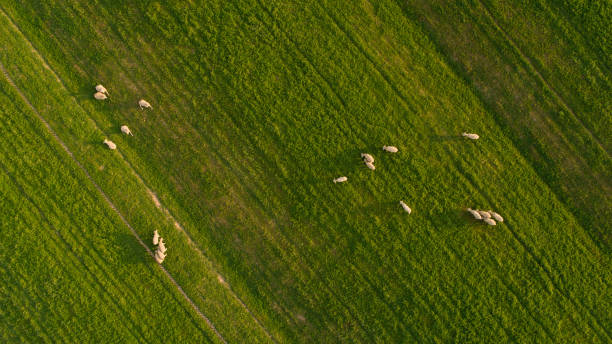sheep: (92, 82, 111, 98), (460, 131, 484, 143), (101, 138, 120, 152), (489, 210, 506, 225), (136, 98, 154, 111), (399, 201, 415, 215), (380, 144, 401, 154), (92, 89, 110, 100), (466, 207, 480, 221), (362, 159, 378, 171), (477, 207, 491, 219), (482, 217, 497, 228), (120, 125, 133, 137), (157, 240, 168, 254), (151, 230, 160, 246), (155, 249, 166, 262), (331, 176, 349, 183), (361, 154, 374, 162)
